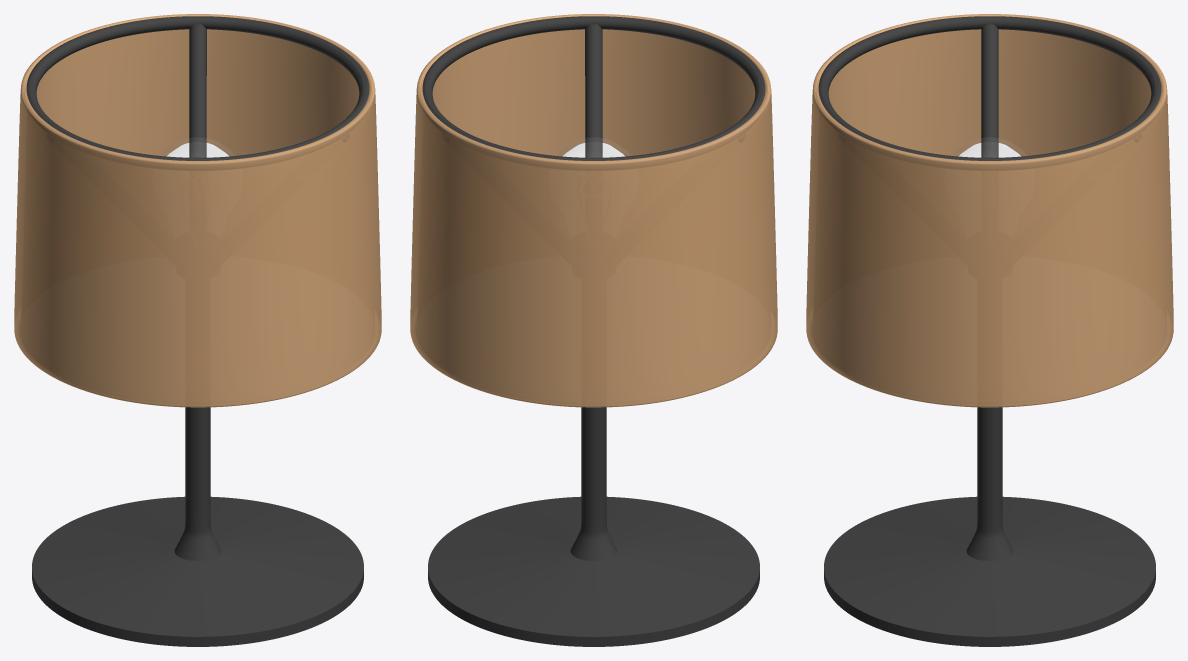
Rendered from lamp.fbx.
3 views of the same model, side by side, from view 1: azimuth 30°, elevation 25°; view 2: azimuth 150°, elevation 25°; view 3: azimuth 270°, elevation 25° (orthographic).
Parts seen in each view (by area): view 1: lamp_COVER, lamp, BULB; view 2: lamp_COVER, lamp, BULB; view 3: lamp_COVER, lamp, BULB.
Boxes of the visible parts, box(x1,y1,x2,y2) form: lamp_COVER: box(14, 14, 381, 407); lamp: box(24, 16, 371, 646); BULB: box(167, 142, 228, 157); lamp_COVER: box(410, 14, 777, 407); lamp: box(420, 16, 767, 646); BULB: box(563, 142, 624, 157); lamp_COVER: box(806, 14, 1173, 407); lamp: box(816, 16, 1163, 646); BULB: box(959, 142, 1020, 157).
Size of the model in its own units: 198 by 291 by 198.
